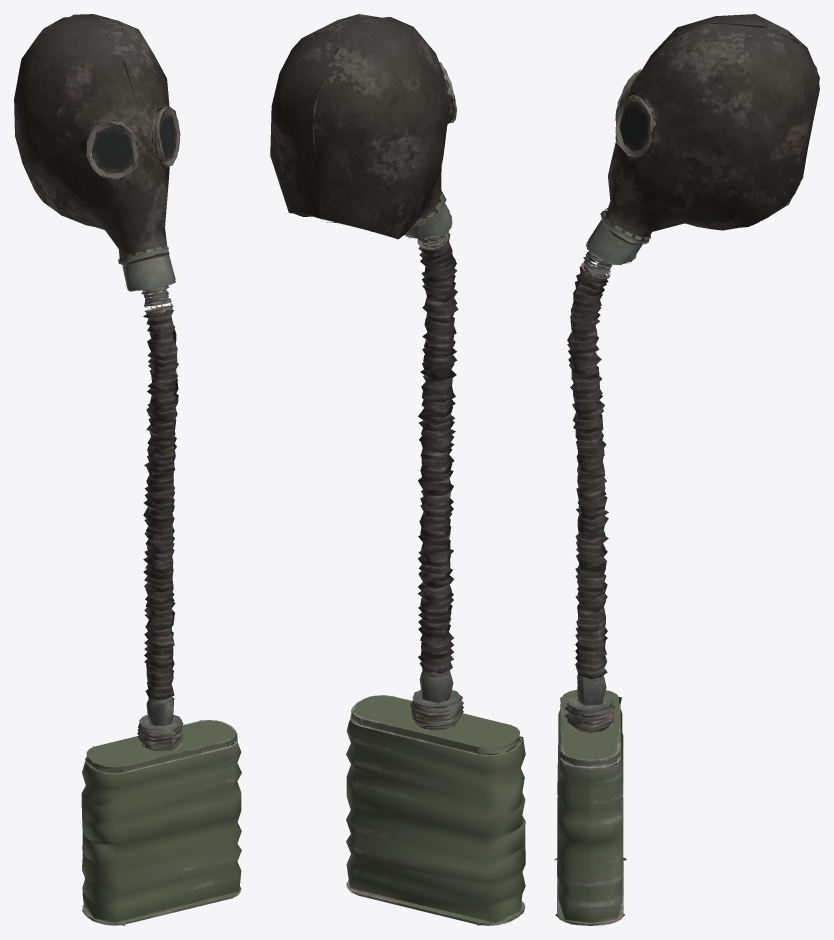
The model's file is ph_old_gas_mask.glb.
3 renders of one model, left to right at view 1: azimuth 30°, elevation 25°; view 2: azimuth 150°, elevation 25°; view 3: azimuth 270°, elevation 25°, orthographic. The views are drawn at different scales.
Visible parts, largest first — view 1: old_gas_mask; view 2: old_gas_mask; view 3: old_gas_mask.
Part boxes in pixels (bbox=[...]): old_gas_mask: bbox=[14, 14, 241, 925]; old_gas_mask: bbox=[270, 14, 525, 925]; old_gas_mask: bbox=[554, 14, 819, 925].
Bounding box in the file's own units: 0.2109 × 1.12 × 0.3132.
1 material, 1 textured.
